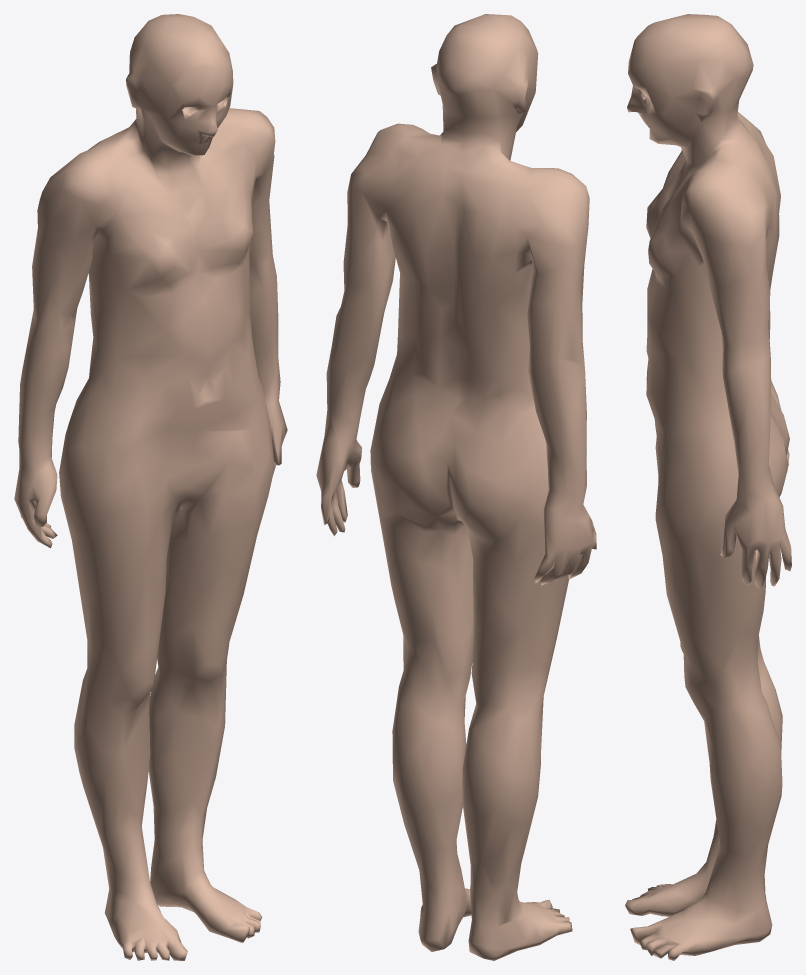
The model's file is icrp_adult_female.surface.LOD3.glb.
3 views of the same model, side by side, from view 1: azimuth 30°, elevation 25°; view 2: azimuth 150°, elevation 25°; view 3: azimuth 270°, elevation 25° (orthographic).
Visible parts, largest first — view 1: ICRP.ADULT.FEMALE.SURFACE.SKIN; view 2: ICRP.ADULT.FEMALE.SURFACE.SKIN; view 3: ICRP.ADULT.FEMALE.SURFACE.SKIN.
Part boxes in pixels (x1,y1,x2,y2): ICRP.ADULT.FEMALE.SURFACE.SKIN: (14, 14, 287, 960); ICRP.ADULT.FEMALE.SURFACE.SKIN: (316, 14, 596, 960); ICRP.ADULT.FEMALE.SURFACE.SKIN: (625, 14, 791, 960).
Bounding box in the file's own units: 0.5077 × 1.63 × 0.272.
